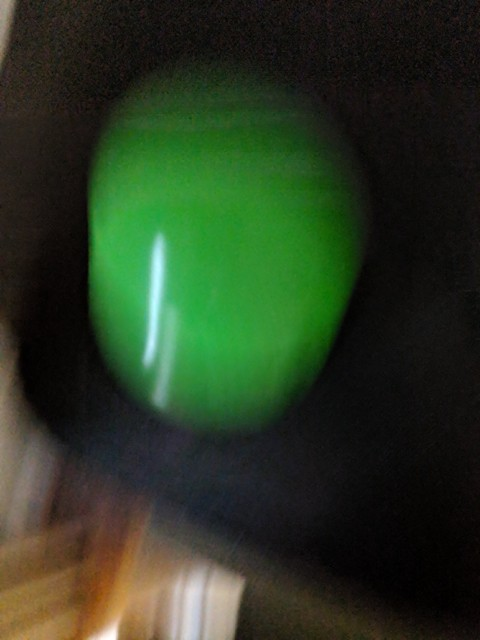ball: (85, 113, 367, 419)
